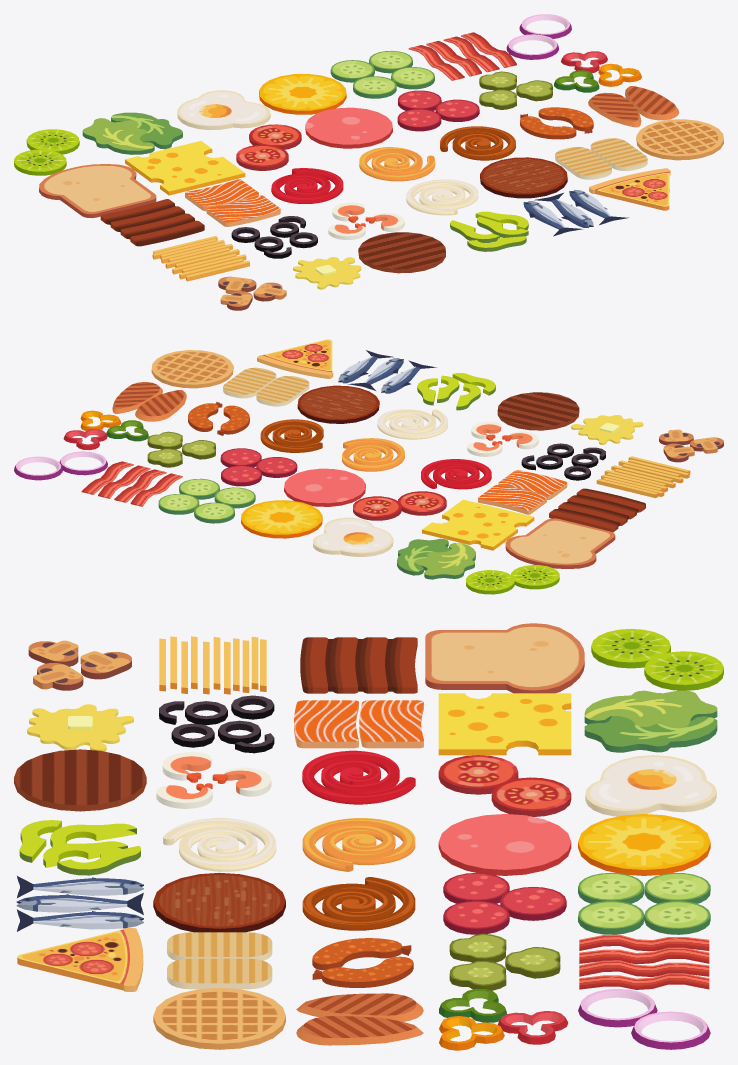
The model's file is sandwishIngredents.glb.
3 views of the same model, one above another, from view 1: azimuth 30°, elevation 25°; view 2: azimuth 150°, elevation 25°; view 3: azimuth 270°, elevation 25° (orthographic). The views are drawn at different scales.
Parts seen in each view (by area): view 1: Bread_Slice, Cheese_Slice, Cucumber_Slice, Lettuce_Slice, Ribs_Slice, Roast_Slice, Ham_Slice, Waffle_Slice, Patty_Slice, Pineapple_Slice, Egg_Slice, Salmon_Slice (+22 smaller); view 2: Bread_Slice, Cheese_Slice, Cucumber_Slice, Lettuce_Slice, Patty_Slice, Waffle_Slice, Pineapple_Slice, Ribs_Slice, Roast_Slice, Ham_Slice, Egg_Slice, Salmon_Slice (+22 smaller); view 3: Bread_Slice, Cheese_Slice, Cucumber_Slice, Lettuce_Slice, Patty_Slice, Waffle_Slice, Pineapple_Slice, Ham_Slice, Roast_Slice, Ribs_Slice, Egg_Slice, Bacon_Slice (+22 smaller).
Boxes of the visible parts, <box> form: Bread_Slice: <box>39,164,156,218</box>; Cheese_Slice: <box>125,141,245,195</box>; Cucumber_Slice: <box>330,50,434,98</box>; Lettuce_Slice: <box>82,112,182,154</box>; Ribs_Slice: <box>100,199,204,246</box>; Roast_Slice: <box>480,157,567,198</box>; Ham_Slice: <box>305,107,392,148</box>; Waffle_Slice: <box>636,119,723,160</box>; Patty_Slice: <box>358,232,445,273</box>; Pineapple_Slice: <box>259,73,346,114</box>; Egg_Slice: <box>177,90,270,130</box>; Salmon_Slice: <box>185,179,280,226</box>; Bread_Slice: <box>505,518,615,568</box>; Cheese_Slice: <box>422,499,534,550</box>; Cucumber_Slice: <box>158,478,255,523</box>; Lettuce_Slice: <box>397,538,475,579</box>; Patty_Slice: <box>497,392,579,430</box>; Waffle_Slice: <box>151,350,233,388</box>; Pineapple_Slice: <box>241,500,322,538</box>; Ribs_Slice: <box>549,488,645,532</box>; Roast_Slice: <box>297,385,379,423</box>; Ham_Slice: <box>284,468,365,506</box>; Egg_Slice: <box>313,517,393,556</box>; Salmon_Slice: <box>478,470,567,514</box>; Bread_Slice: <box>425,623,584,693</box>; Cheese_Slice: <box>438,693,571,755</box>; Cucumber_Slice: <box>578,872,710,934</box>; Lettuce_Slice: <box>584,690,717,752</box>; Patty_Slice: <box>14,749,146,811</box>; Waffle_Slice: <box>153,987,285,1049</box>; Pineapple_Slice: <box>578,814,710,875</box>; Ham_Slice: <box>438,814,571,875</box>; Roast_Slice: <box>153,872,285,932</box>; Ribs_Slice: <box>300,637,417,693</box>; Egg_Slice: <box>585,755,716,816</box>; Bacon_Slice: <box>579,934,709,989</box>.
Bounding box in the file's own units: 1.5 × 0.0109 × 1.07.
34 materials, 34 textured.
